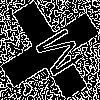M: (25, 25, 86, 85)
